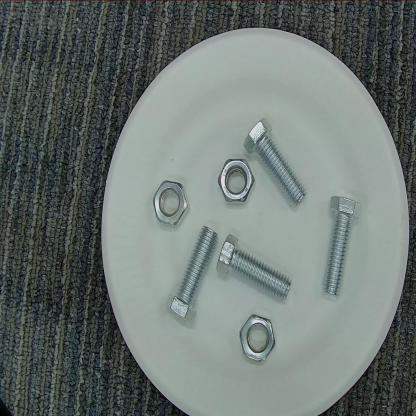FOD: (242, 113, 312, 214), (215, 231, 293, 307), (166, 221, 218, 327), (320, 191, 364, 304), (238, 311, 277, 369), (216, 154, 256, 209), (152, 178, 191, 231)
